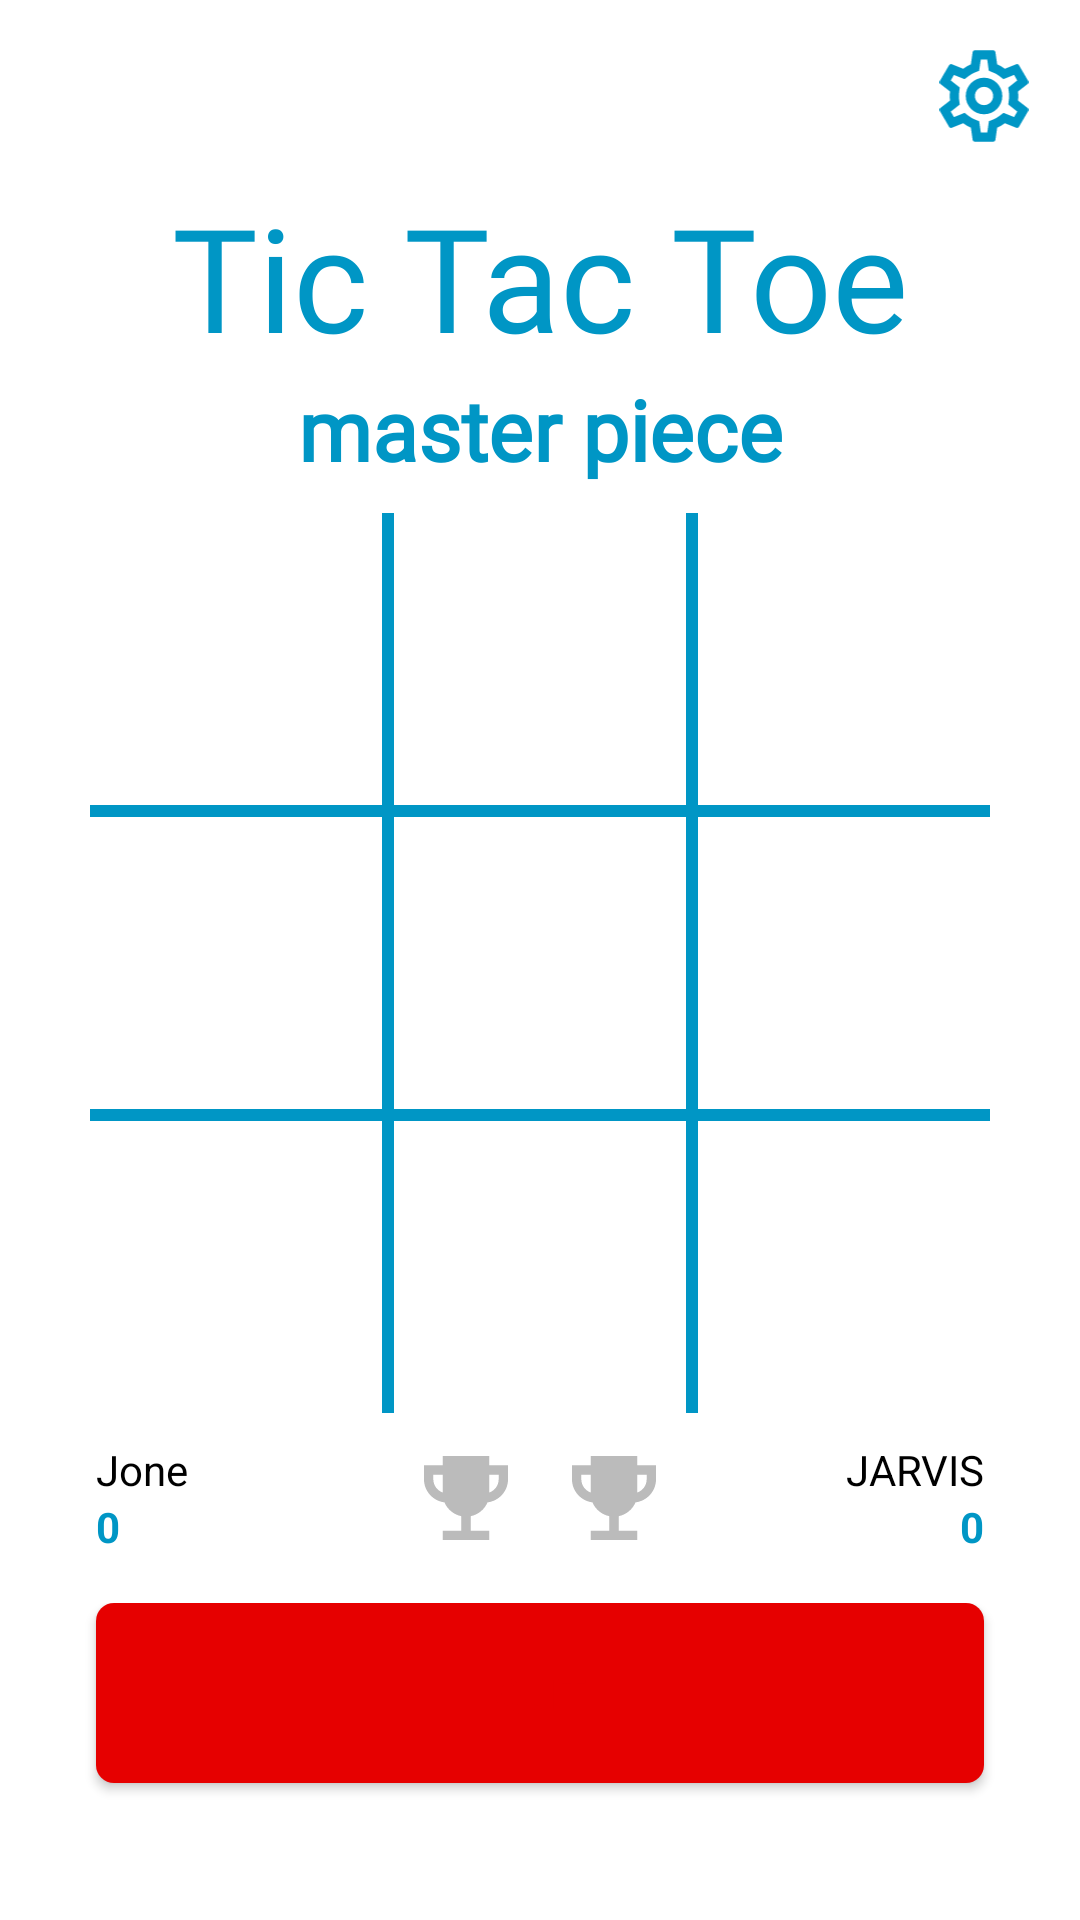

Point at icon controls on the screen. Image size 1080px×1920px, points as point (x, y).
setting secondary: point (984, 96)
trophy: point (466, 1498), point (614, 1498)
